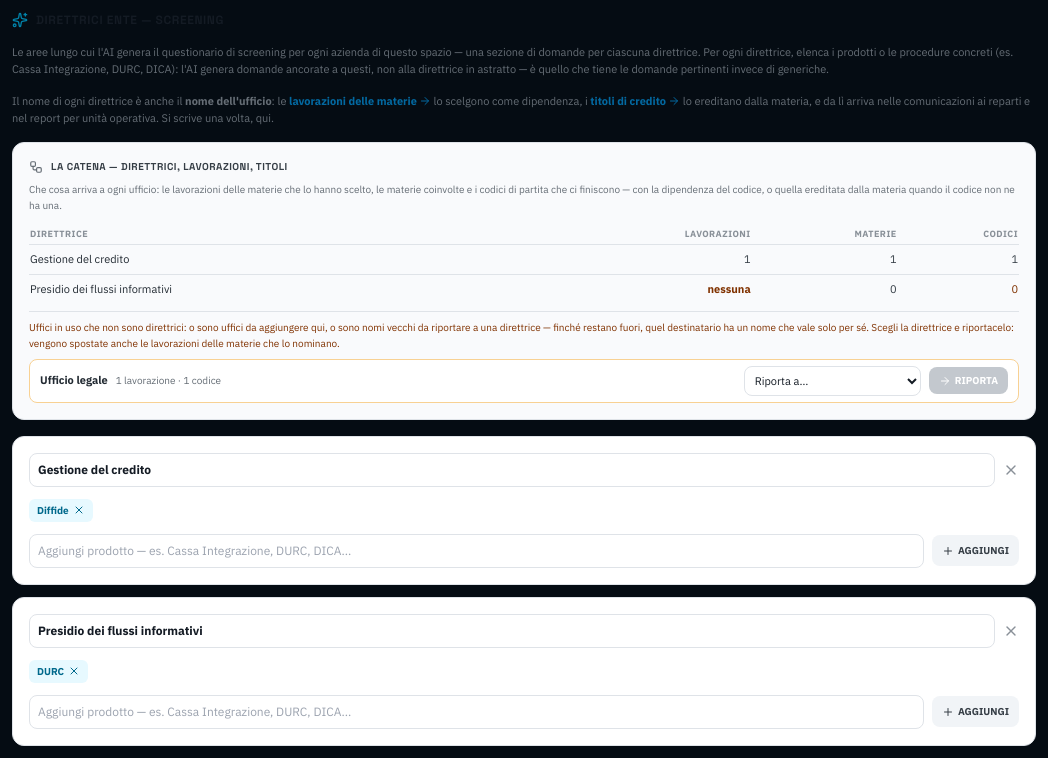
Test: direttrici: la catena fino ai titoli › riporta l’ufficio fuori elenco alla direttrice scelta, in un clic
Expected: the text "Ufficio legale" is shown, [40,372,108,389]
Select "Gestione del credito" in the dropdown named "Direttrice a cui riportare Ufficio legale": [832, 380] box [744,366,921,396]
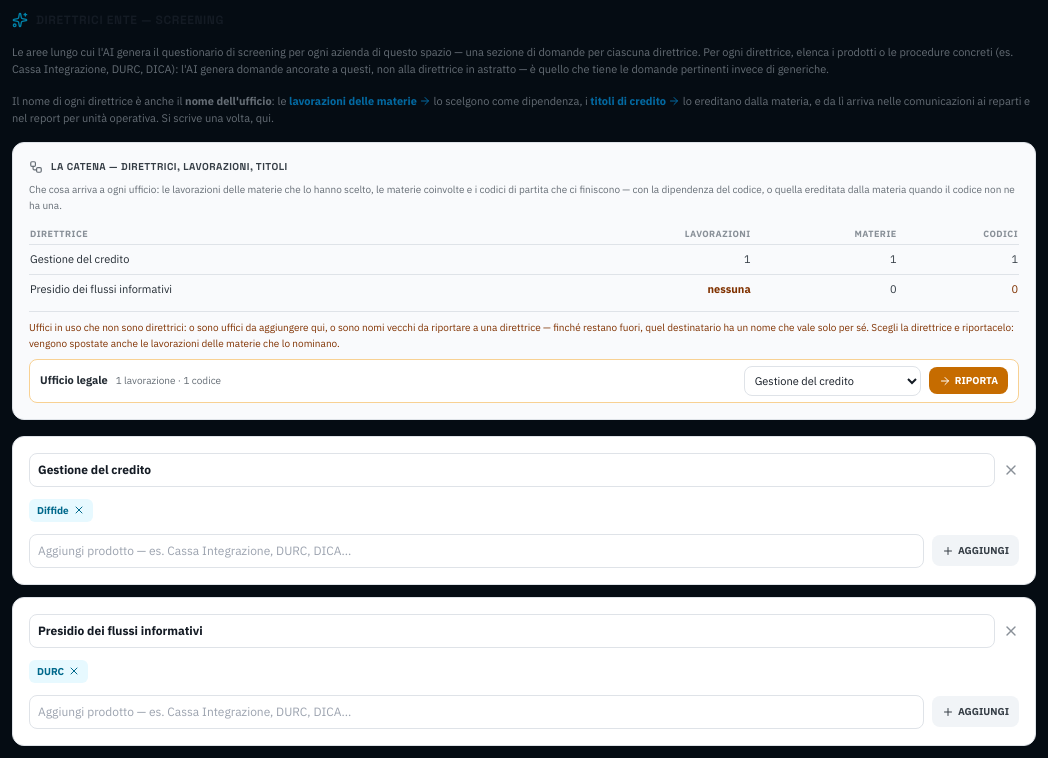
Click the button "Riporta": [968, 380] box [929,367,1008,394]
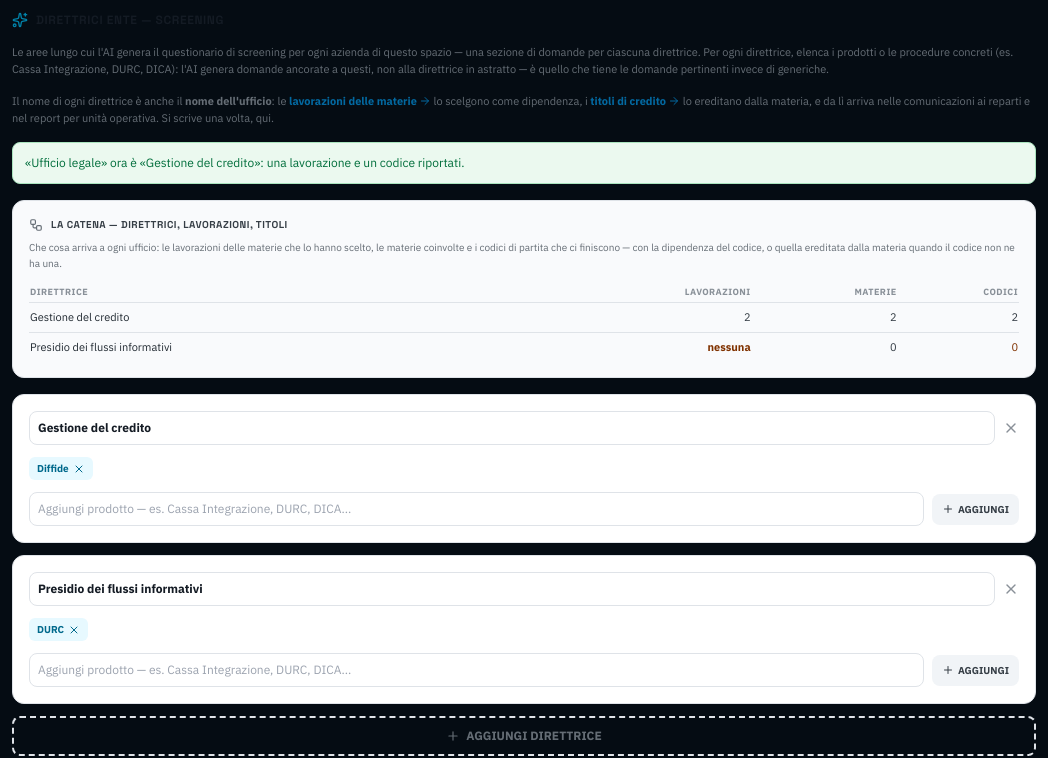
Result: the text "una lavorazione e un codice riportati" is shown at [25,155,464,170]
